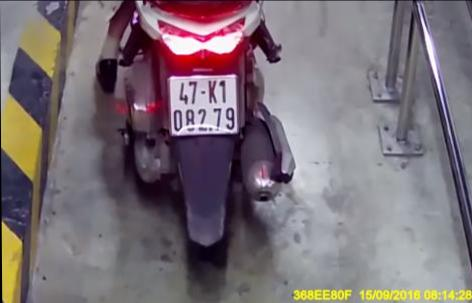LP: (166, 74, 240, 135)
